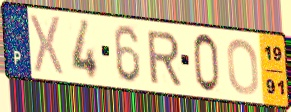0: (192, 32, 221, 94)
4: (70, 17, 99, 81)
6: (113, 22, 142, 86)
O: (225, 37, 261, 97)
R: (145, 30, 184, 87)
X: (28, 12, 65, 79)
